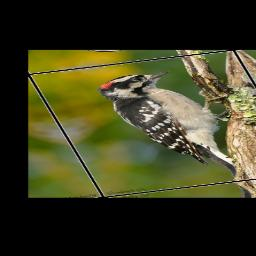Woodpecker: (88, 66, 256, 187)
